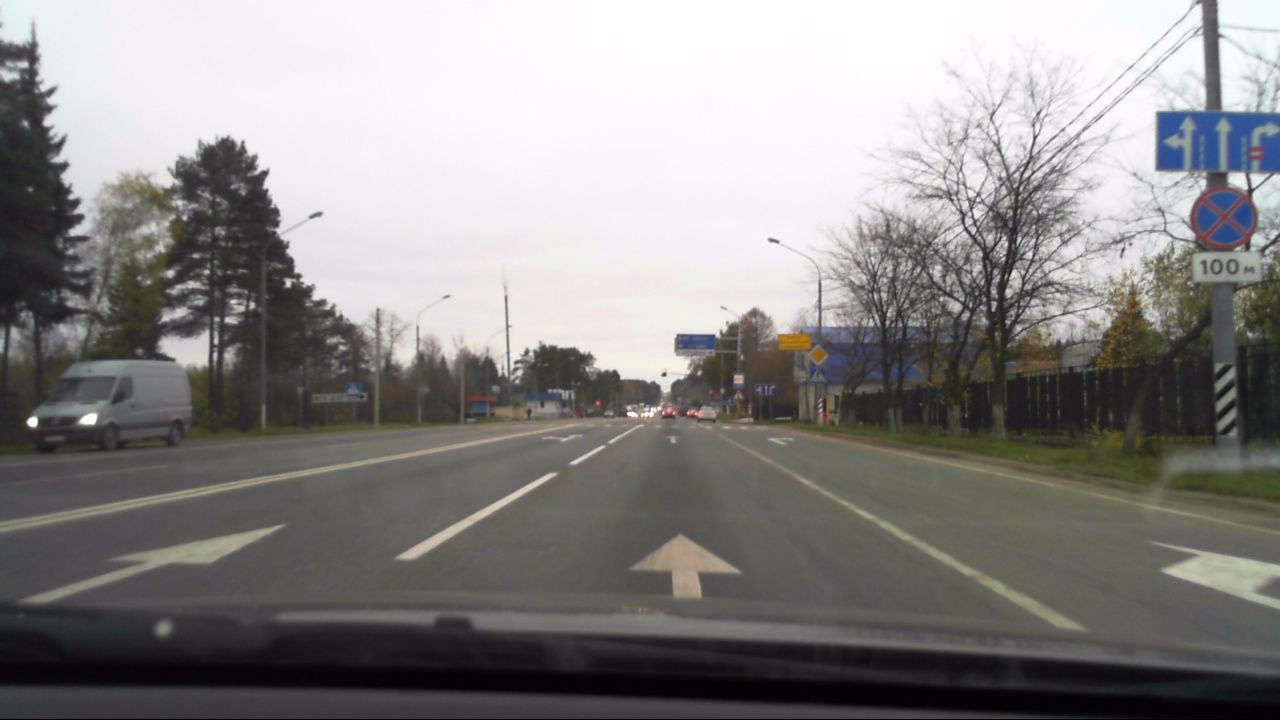No Parking: (1189, 185, 1257, 248)
